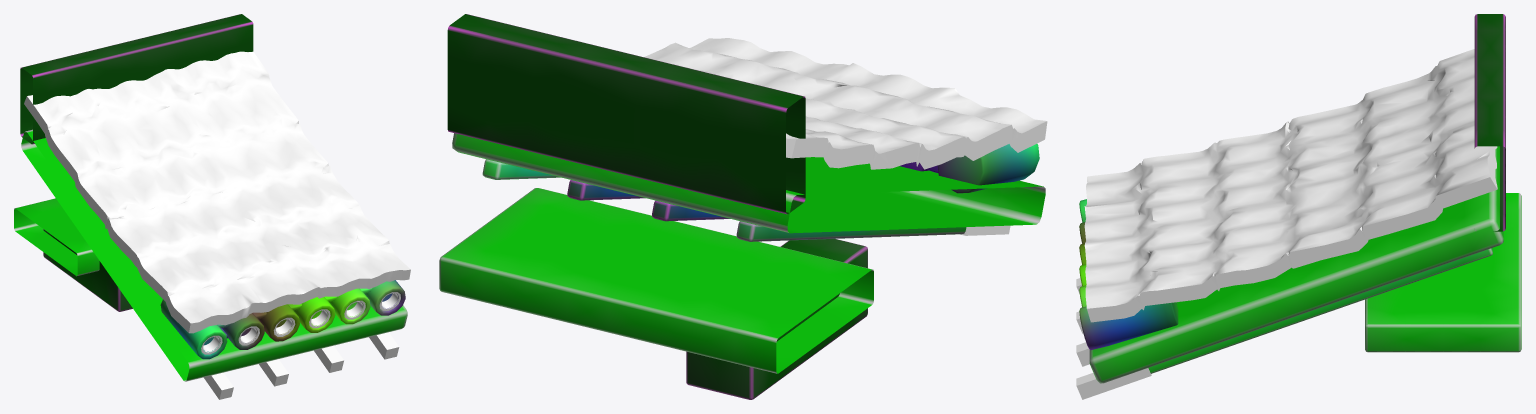
File: overhang_side_100_01.fbx
3 renders of one model, left to right at view 1: azimuth 30°, elevation 25°; view 2: azimuth 150°, elevation 25°; view 3: azimuth 270°, elevation 25°, orthographic. The views are drawn at different scales.
Parts seen in each view (by area): view 1: overhang_side_100_01; view 2: overhang_side_100_01; view 3: overhang_side_100_01.
Part boxes in pixels (x1,y1,x2,y2): overhang_side_100_01: (14, 14, 410, 399); overhang_side_100_01: (439, 14, 1047, 399); overhang_side_100_01: (1076, 14, 1521, 399).
Bounding box in the file's own units: 1 × 0.9271 × 1.42.
